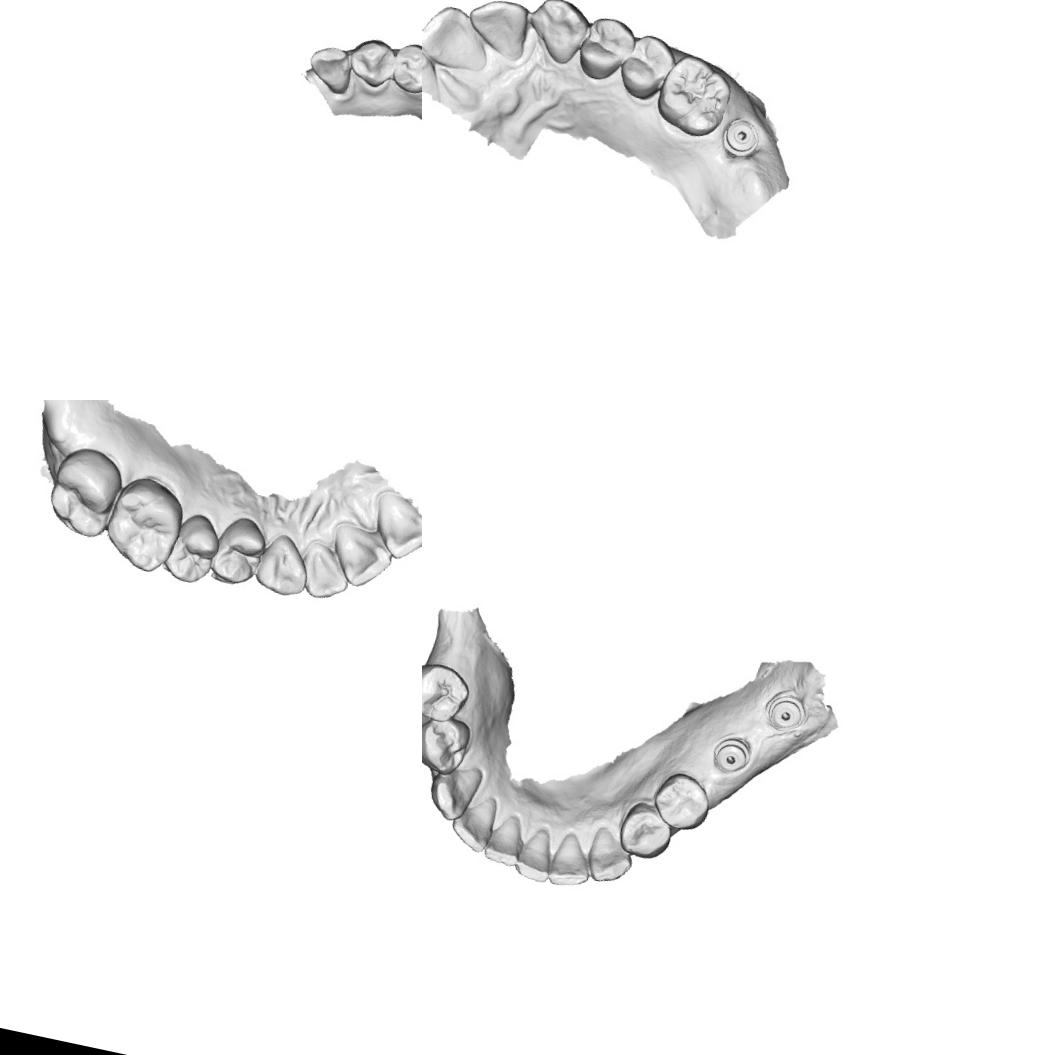canine: (250, 528, 316, 600), (524, 0, 592, 67), (423, 756, 486, 826), (582, 822, 640, 888), (344, 32, 400, 92)
implant: (718, 114, 764, 164), (708, 731, 756, 776), (760, 690, 808, 734)
incisor: (422, 0, 489, 72), (329, 524, 397, 592), (367, 486, 422, 567), (461, 0, 533, 61), (446, 790, 501, 856), (547, 828, 598, 892), (300, 546, 354, 606), (302, 40, 356, 98), (480, 810, 528, 870), (510, 824, 558, 883), (422, 37, 438, 94)
molar: (98, 469, 191, 578), (42, 440, 128, 542), (651, 50, 737, 143), (422, 655, 474, 726)
premolar: (161, 506, 225, 591), (206, 509, 270, 592), (573, 12, 640, 86), (615, 30, 680, 104), (648, 768, 716, 836), (614, 796, 678, 862), (422, 711, 474, 780), (386, 38, 422, 99)
